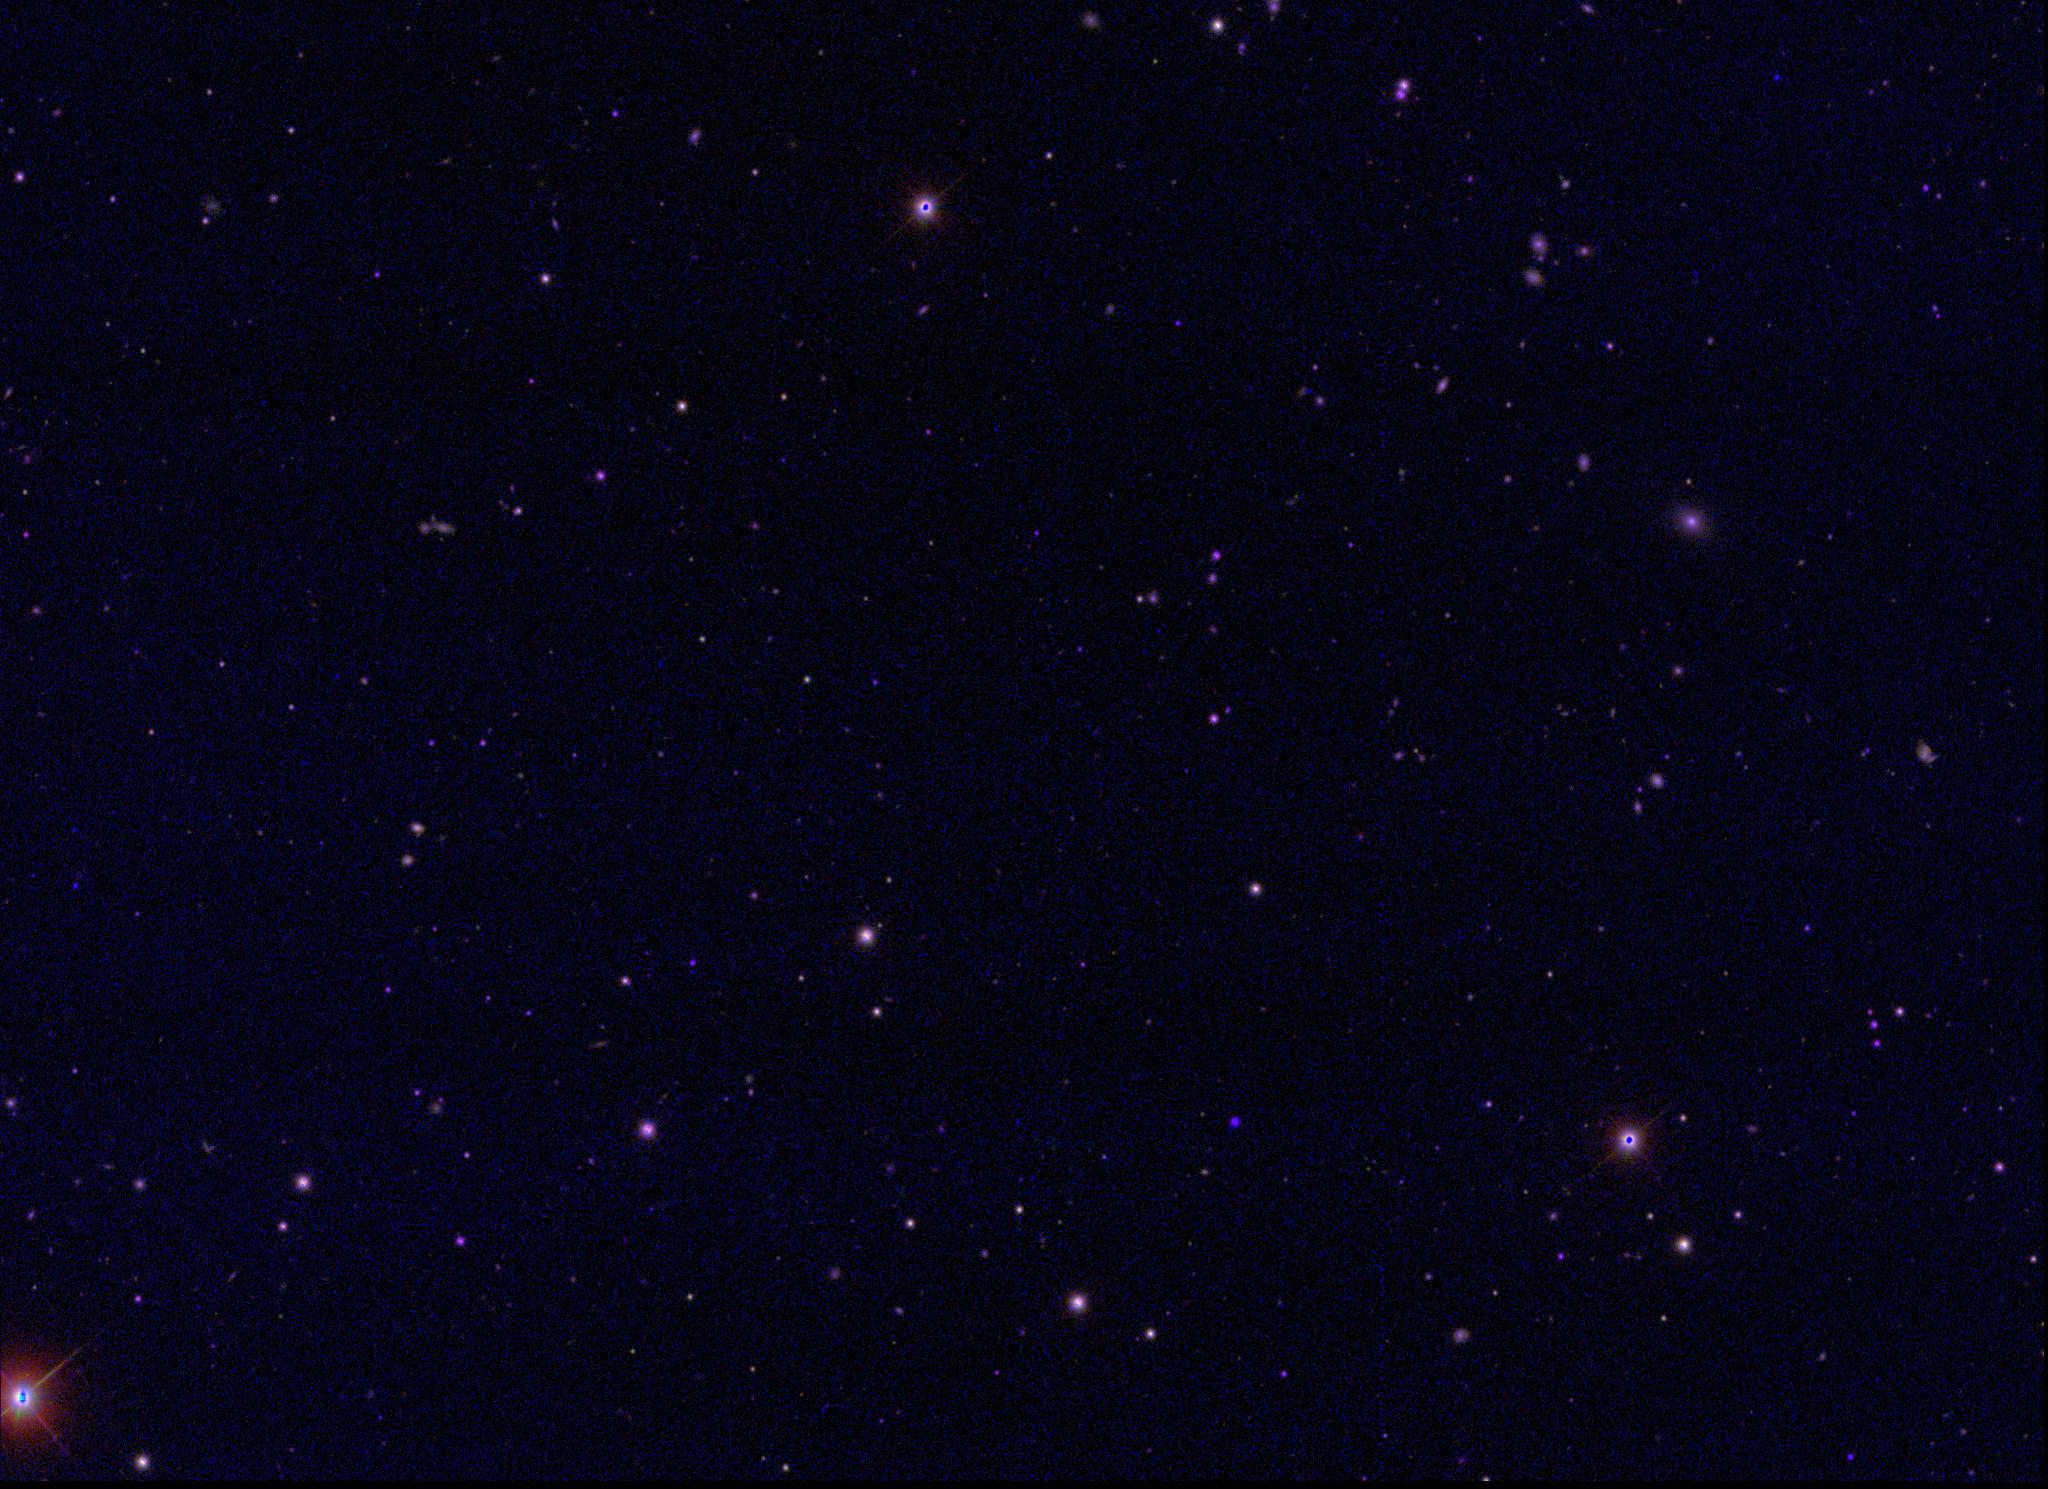L: (1768, 72, 1782, 86)
